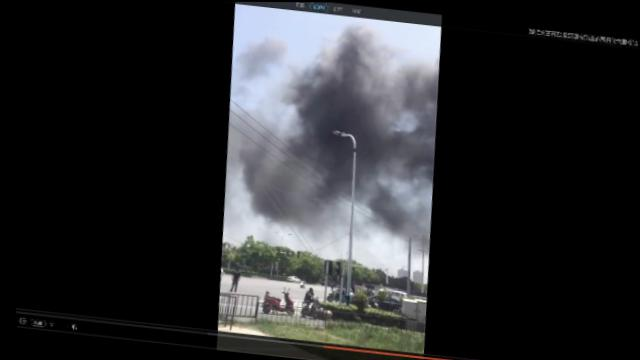smoke: (295, 20, 401, 138), (384, 52, 443, 187), (290, 132, 351, 199), (243, 156, 298, 219), (361, 194, 433, 239), (351, 137, 391, 194), (240, 31, 286, 80), (279, 59, 305, 106)
